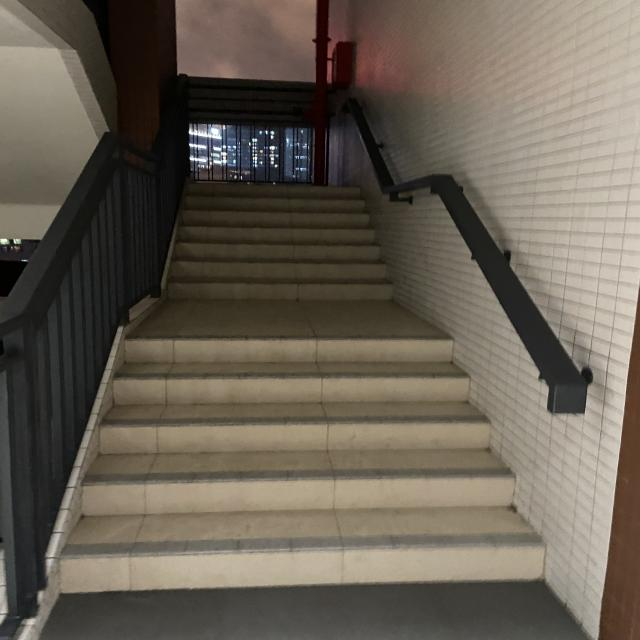Stairs: (38, 334, 606, 596), (155, 164, 408, 318)
